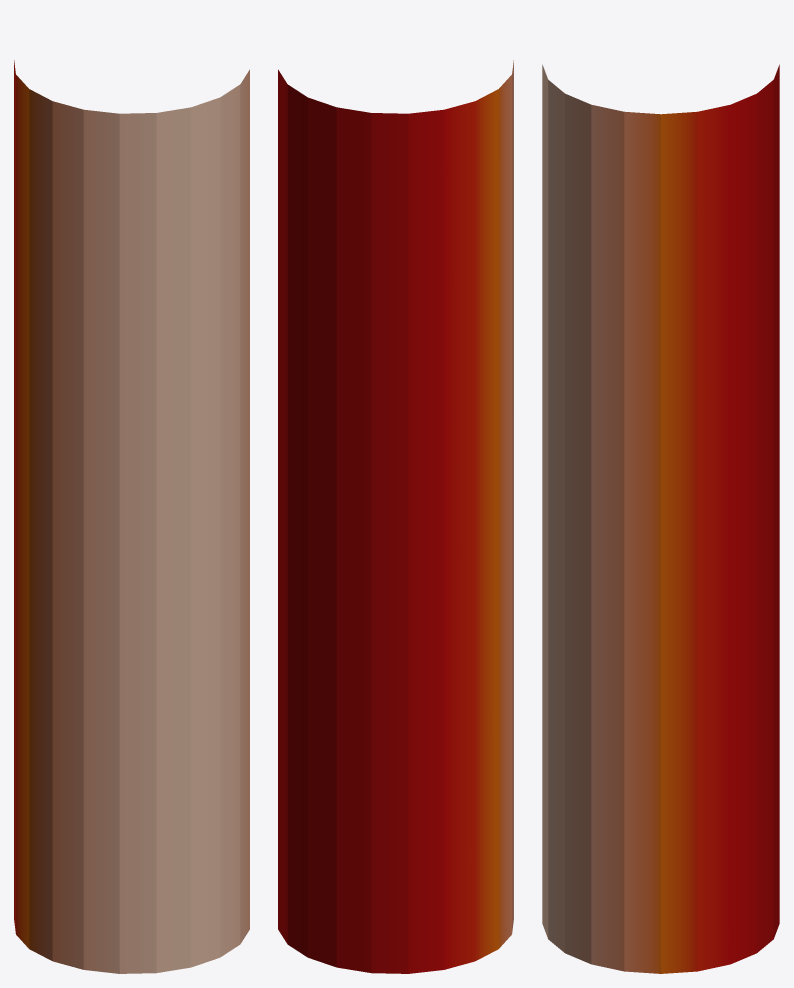
Rendered from hero-entrance.glb.
3 views of the same model, side by side, from view 1: azimuth 30°, elevation 25°; view 2: azimuth 150°, elevation 25°; view 3: azimuth 270°, elevation 25° (orthographic).
Parts seen in each view (by area): view 1: frame-00; view 2: frame-00; view 3: frame-00.
Boxes of the visible parts, <box> form: frame-00: <box>14,60,249,973</box>; frame-00: <box>278,60,513,973</box>; frame-00: <box>542,64,779,973</box>.
Size of what is drawn, in the model's own units: 0.4 by 1.6 by 0.4.
